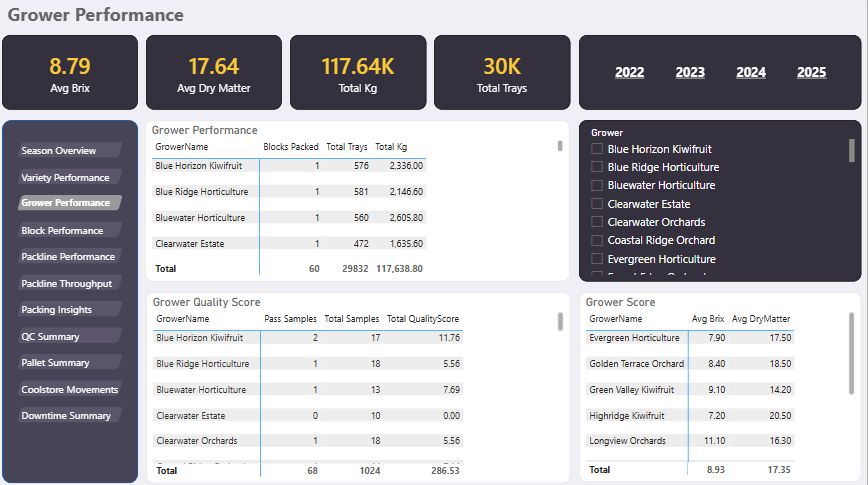

The page's visual inventory and layout, read from the dashboard file:
{"tool":"powerbi","page":{"name":"Grower Performance","canvas":[1280,720],"ordinal":2},"visuals":[{"type":"shape","box":[6,182.4,200.5,535.2],"z":0},{"type":"pivotTable","title":"Grower Performance","fields":{"Rows":["view_GrowerPerformance.GrowerName"],"Values":["Sum(view_GrowerPerformance.BlocksPacked)","Sum(view_GrowerPerformance.TotalTrays)","Sum(view_GrowerPerformance.TotalKg)"]},"box":[216.8,182.2,626.4,237.9],"z":1000},{"type":"pivotTable","title":"Grower Quality Score","fields":{"Rows":["view_GrowerQualityScore.GrowerName"],"Values":["Sum(view_GrowerQualityScore.PassSamples)","Sum(view_GrowerQualityScore.TotalSamples)","Sum(view_GrowerQualityScore.QualityScore)"]},"box":[218.4,436.7,624.9,281.6],"z":2000},{"type":"slicer","fields":{"Values":["view_GrowerSeasonTrend.Season"]},"box":[855.3,57.2,415.6,109.9],"z":3000},{"type":"cardVisual","fields":{"Data":["Avg(view_GrowerSeasonTrend.AvgBrix)"]},"box":[6,57.2,200.3,109.9],"z":4000},{"type":"cardVisual","fields":{"Data":["Avg(view_GrowerSeasonTrend.AvgDryMatter)"]},"box":[218.4,57.2,200.3,109.9],"z":5000},{"type":"cardVisual","fields":{"Data":["Sum(view_GrowerSeasonTrend.TotalKg)"]},"box":[430.5,57.3,200.5,110.1],"z":6000},{"type":"cardVisual","fields":{"Data":["Sum(view_GrowerSeasonTrend.TotalTrays)"]},"box":[642.9,57.3,200.5,110.1],"z":7000},{"type":"slicer","fields":{"Values":["view_GrowerPerformance.GrowerName"]},"box":[855.3,182.2,415.6,237.9],"z":8000},{"type":"pivotTable","title":"Grower Score","fields":{"Rows":["view_GrowerScorecard.GrowerName"],"Values":["Avg(view_GrowerScorecard.AvgBrix)","Avg(view_GrowerScorecard.AvgDryMatter)"]},"box":[855.3,436.7,415.6,280.1],"z":9000},{"type":"pageNavigator","box":[27.4,214.6,157,420.5],"z":10000},{"type":"textbox","box":[8.8,2.9,290.2,47.1],"z":10001}]}

Visuals, with their boxes on the page's 1280x720 design canvas (x1, y1, x2, y2). These are canvas units, not pixel positions in the 868x485 screenshot, which may show the page scaled, cropped or inside an application window:
shape: 6, 182, 206, 718
"Grower Performance" pivotTable: 217, 182, 843, 420
"Grower Quality Score" pivotTable: 218, 437, 843, 718
slicer - view_GrowerSeasonTrend.Season: 855, 57, 1271, 167
cardVisual - Avg(view_GrowerSeasonTrend.AvgBrix): 6, 57, 206, 167
cardVisual - Avg(view_GrowerSeasonTrend.AvgDryMatter): 218, 57, 419, 167
cardVisual - Sum(view_GrowerSeasonTrend.TotalKg): 430, 57, 631, 167
cardVisual - Sum(view_GrowerSeasonTrend.TotalTrays): 643, 57, 843, 167
slicer - view_GrowerPerformance.GrowerName: 855, 182, 1271, 420
"Grower Score" pivotTable: 855, 437, 1271, 717
pageNavigator: 27, 215, 184, 635
textbox: 9, 3, 299, 50
